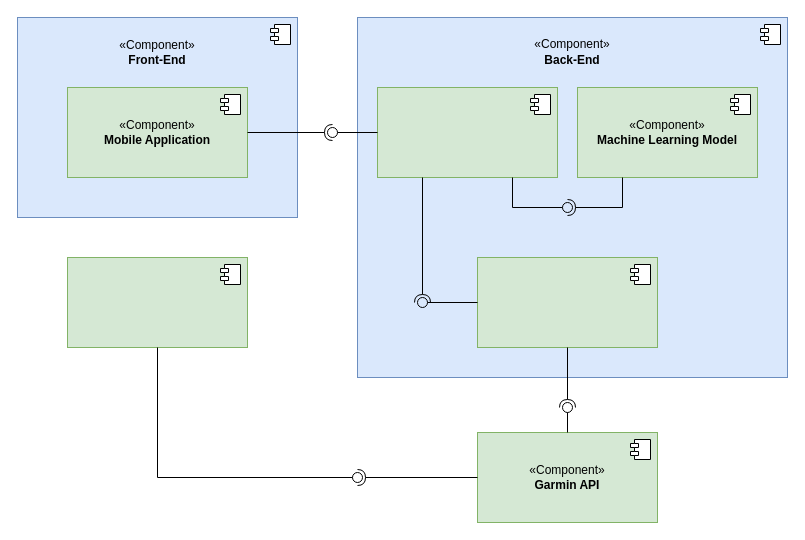
The diagram is 805 pixels wide and 540 high, and some of its shapes have lost their labels. Here are the shapes that lost their labels. From the top down, the centre of each, then its label:
At point (467, 132): "«Component» Server".
At point (157, 302): "«Component» Fitness-Tracker".
At point (567, 302): "«Component» Database".
